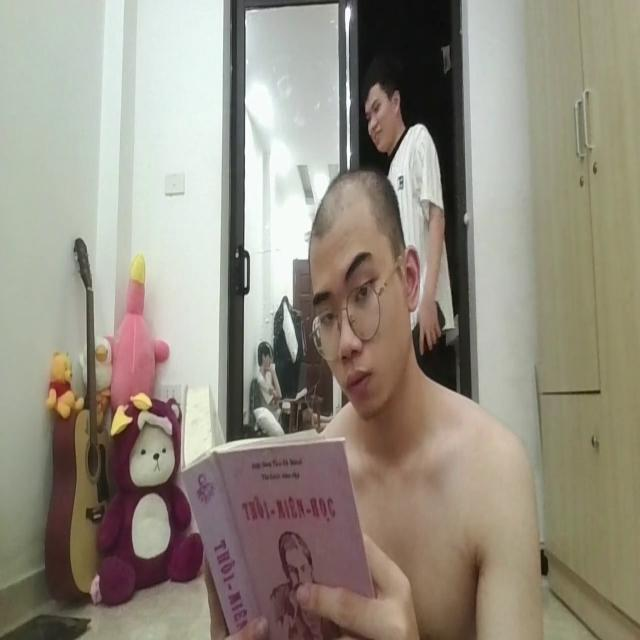book: (178, 372, 382, 640)
extra_person: (359, 61, 463, 386), (248, 313, 284, 418)
student: (296, 166, 548, 640)
